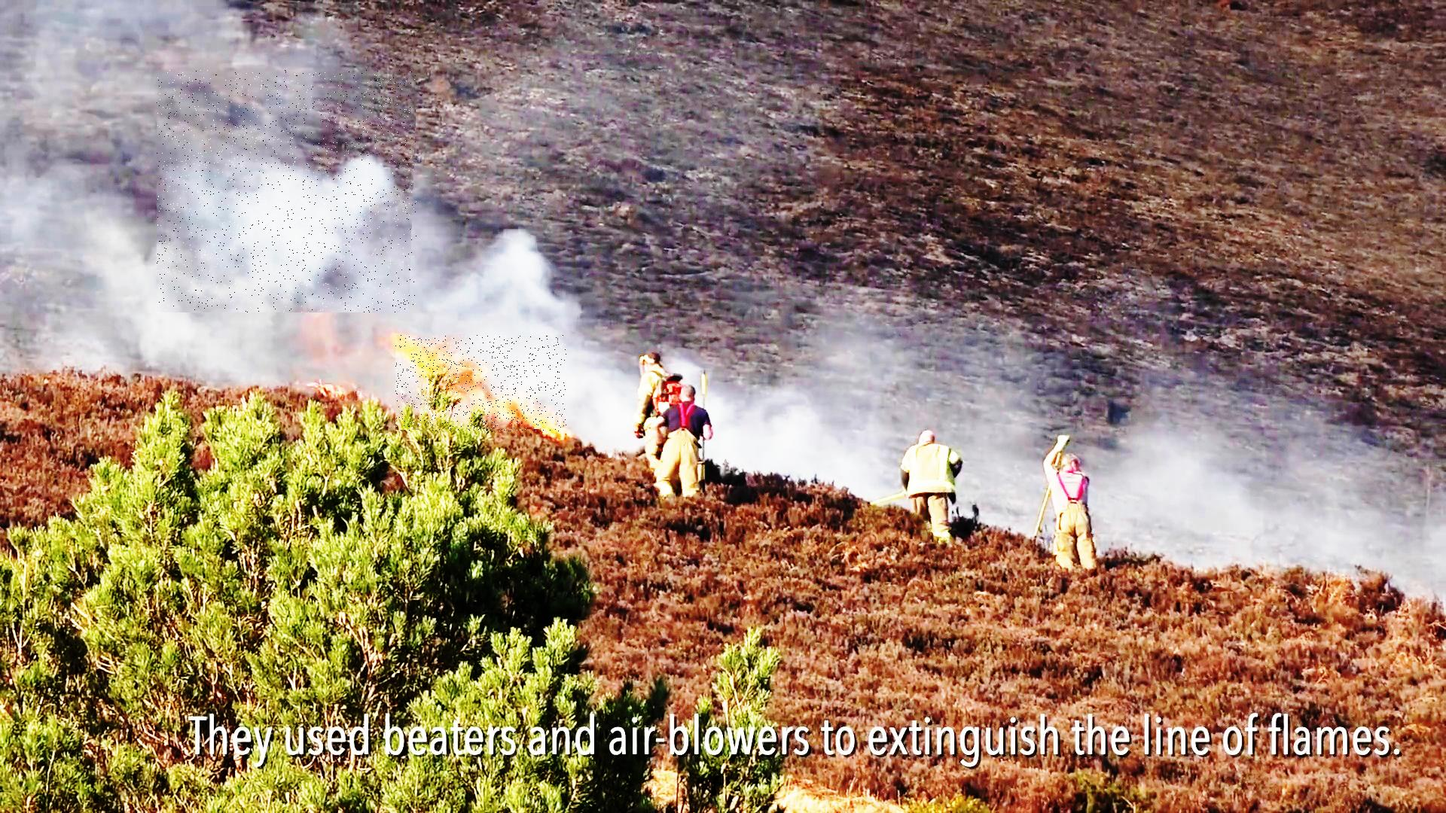fire: (396, 336, 567, 432)
smoke: (157, 70, 417, 313)
